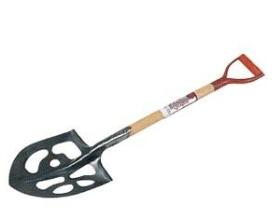PELLE: (5, 0, 275, 204)
